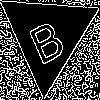B: (23, 10, 68, 66)
